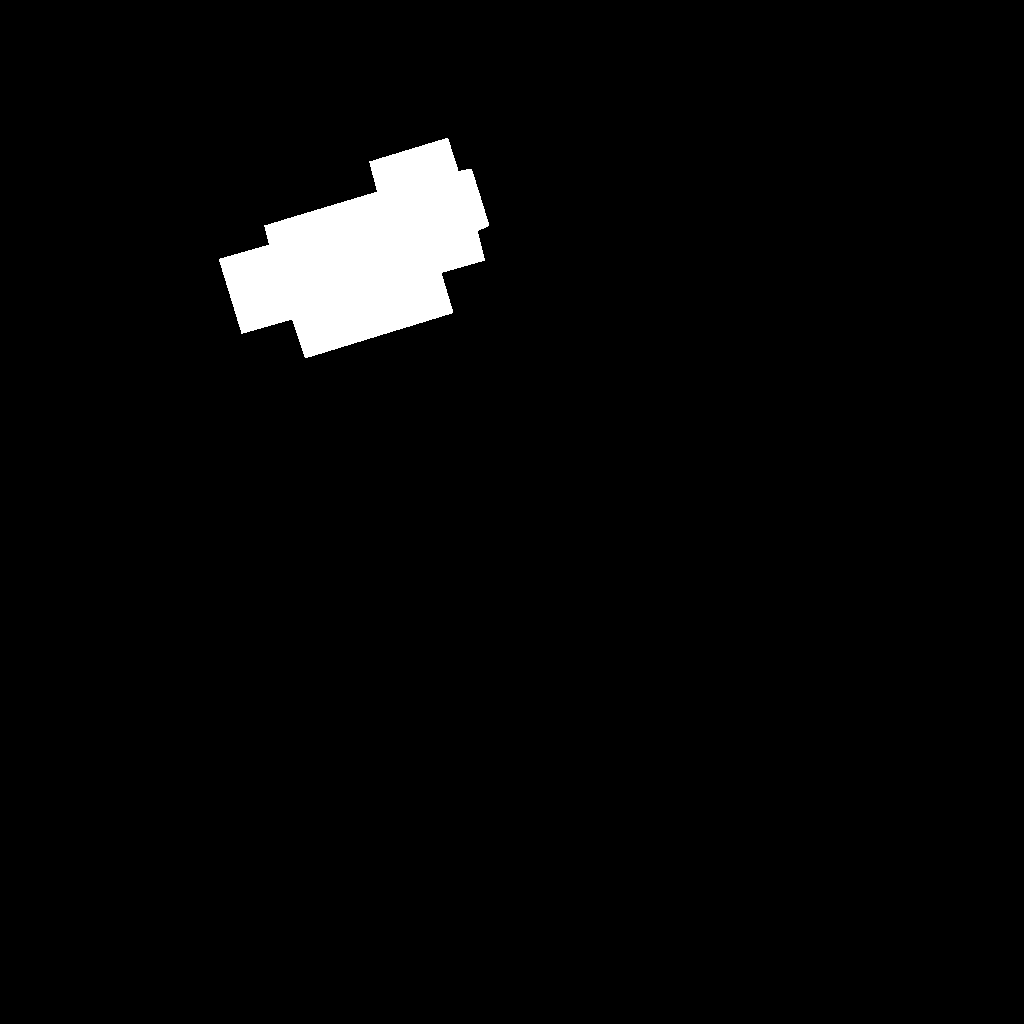building: (219, 138, 490, 359)
